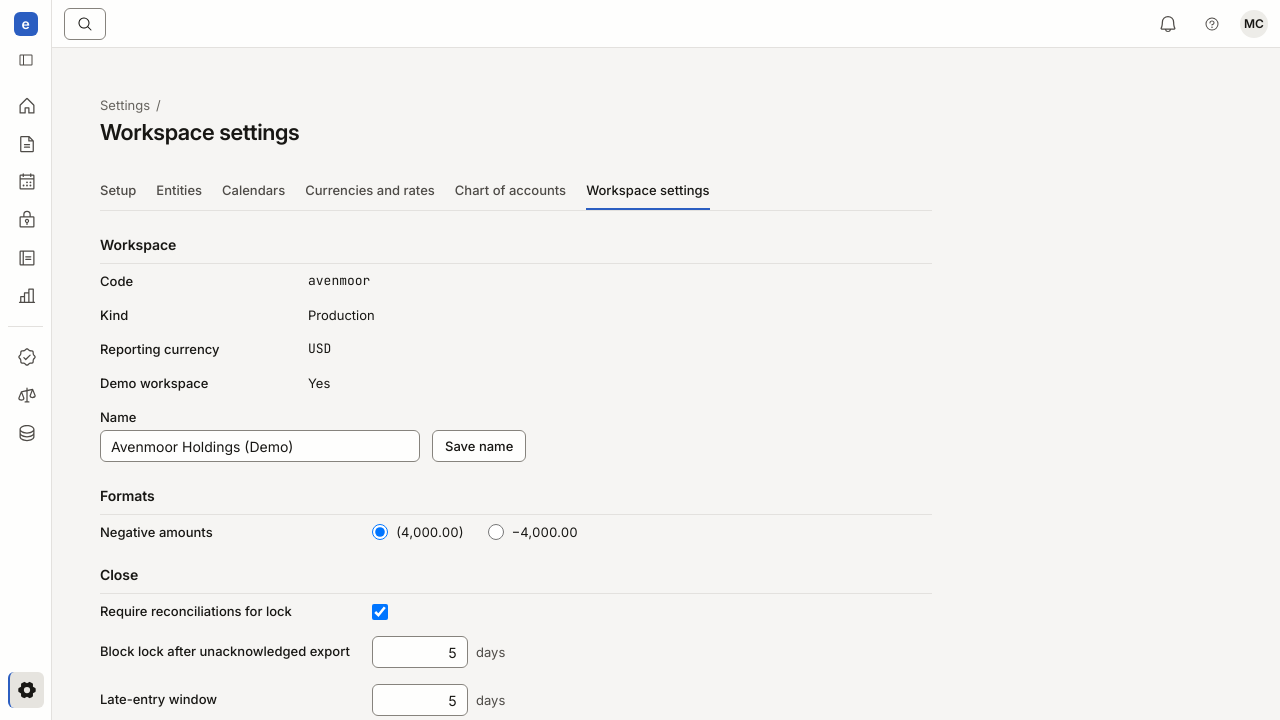
Test: SF-15:workspace › submit creates registry versions per category
The image size is (1280, 720).
Expected: the heading "Workspace settings" is shown, [100, 119, 299, 145]
Expected: the radio button named "Parentheses, (4,000.00)" is checked, [372, 524, 388, 540]
Click the radio button named "Minus sign, −4,000.00" at (496, 532), box [488, 524, 504, 540]
(page scrolled)
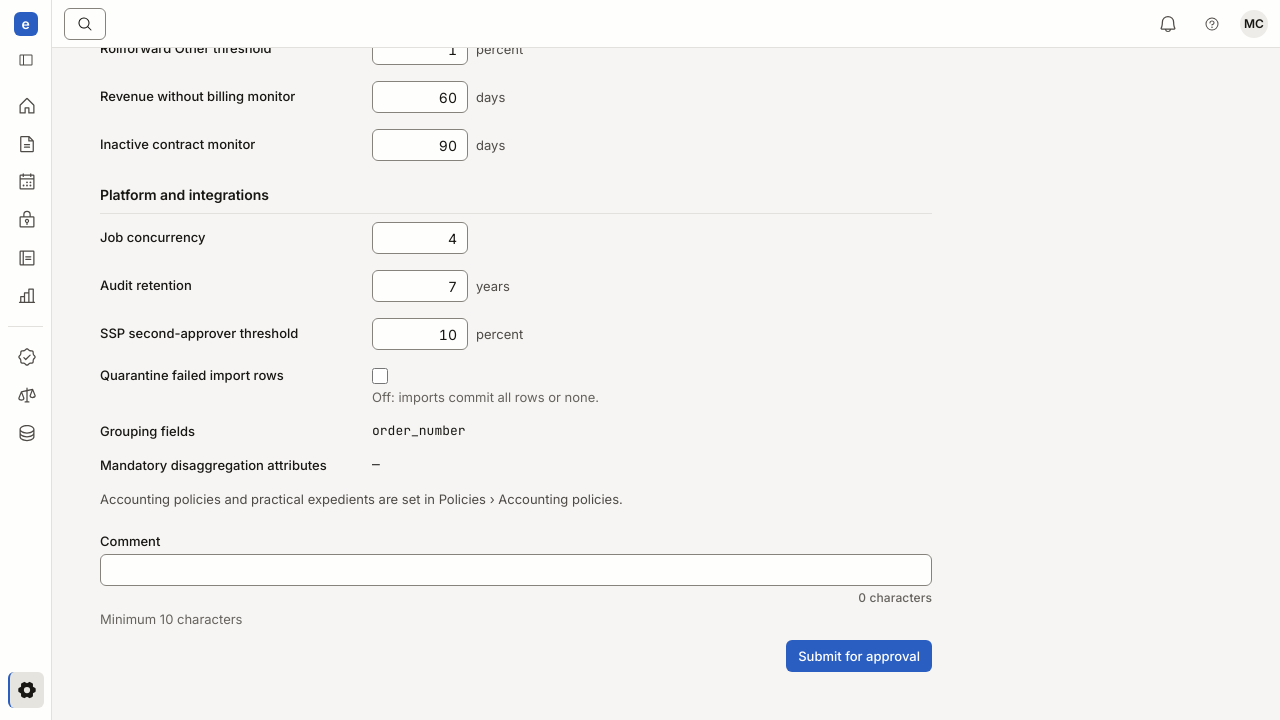
Type "Minus sign for the board pack" into the text box labelled "Comment" at (516, 570), box [100, 554, 932, 586]
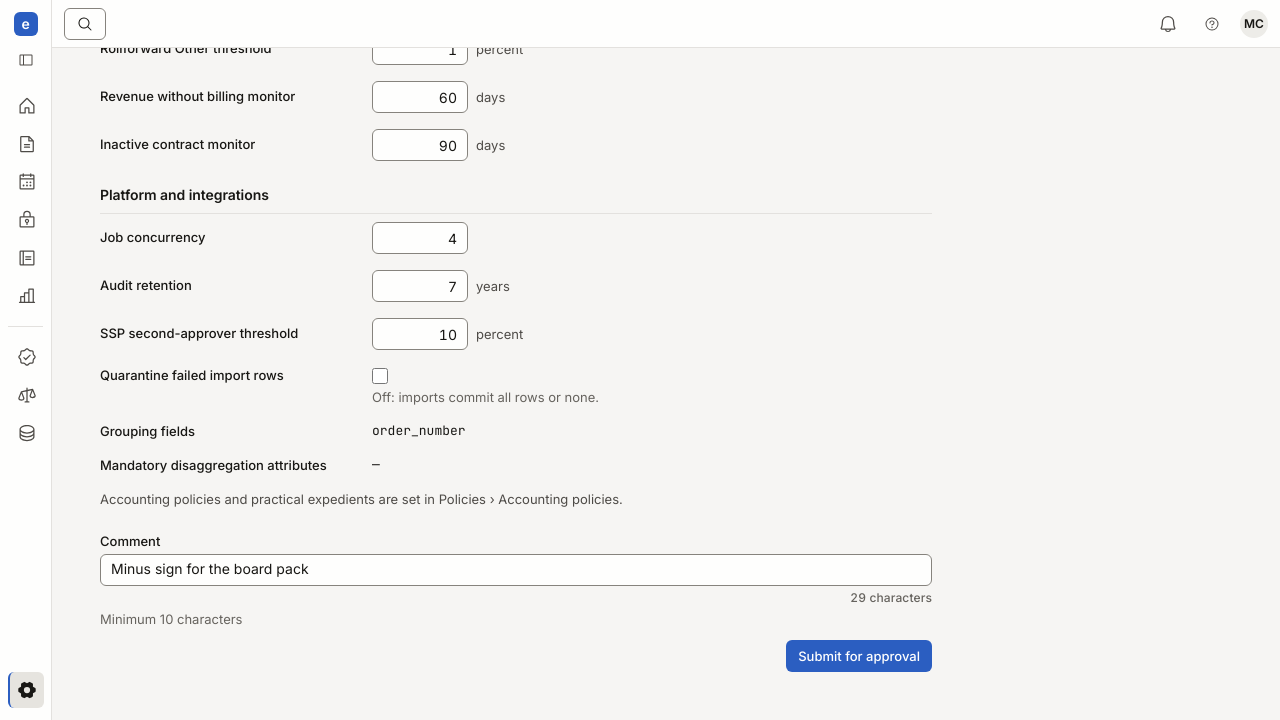
Click the button "Submit for approval" at (859, 656), box [786, 640, 932, 672]
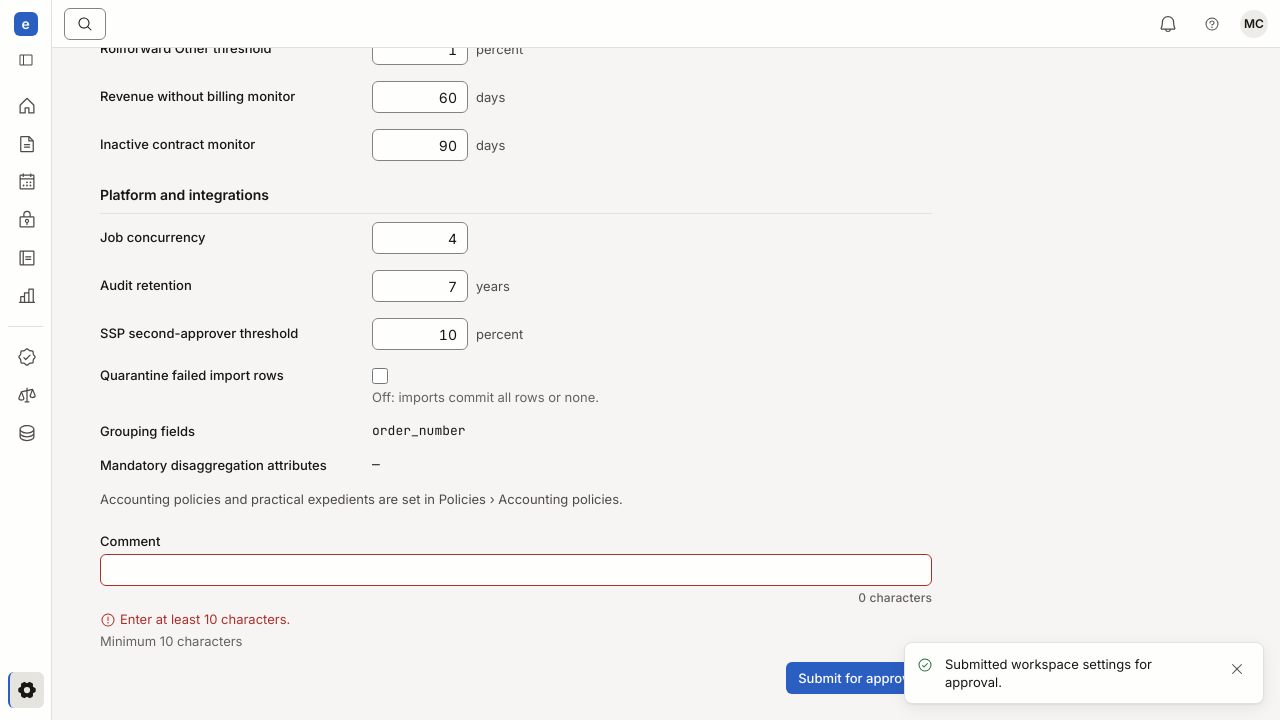
Now the text "Submitted workspace settings for approval." is shown, box [945, 656, 1152, 690]
